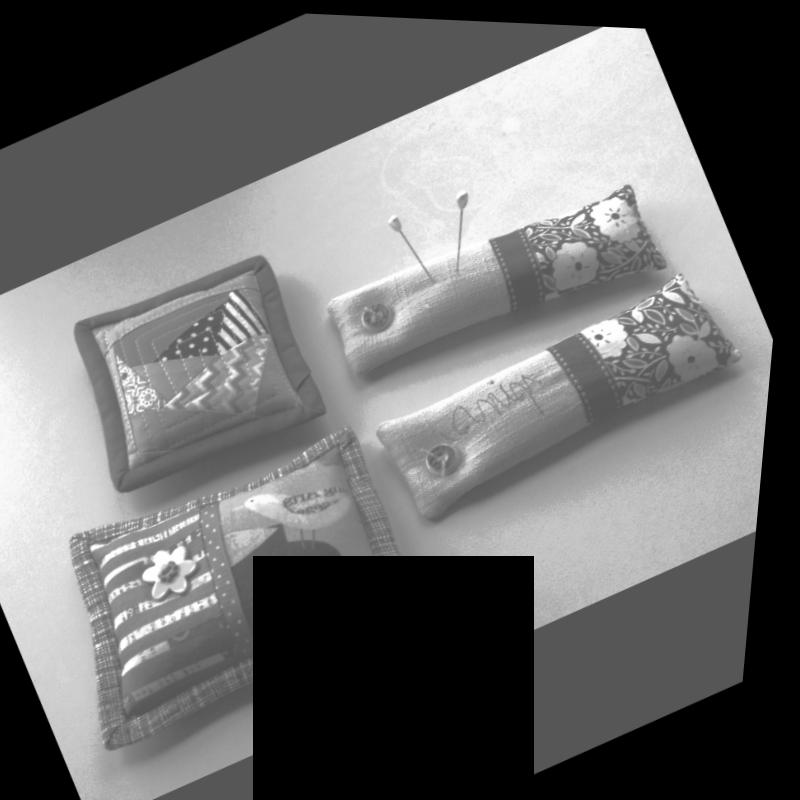pillow: (18, 385, 470, 778), (40, 224, 350, 510)
